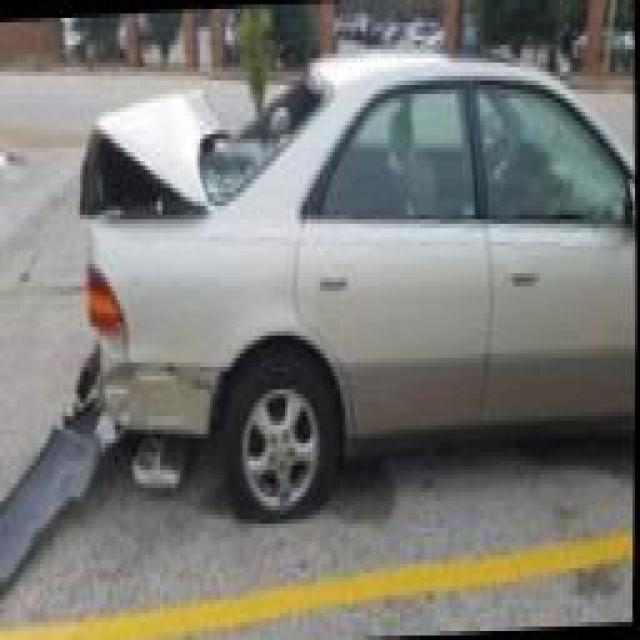replaceable: (93, 351, 232, 457), (205, 101, 316, 180)
